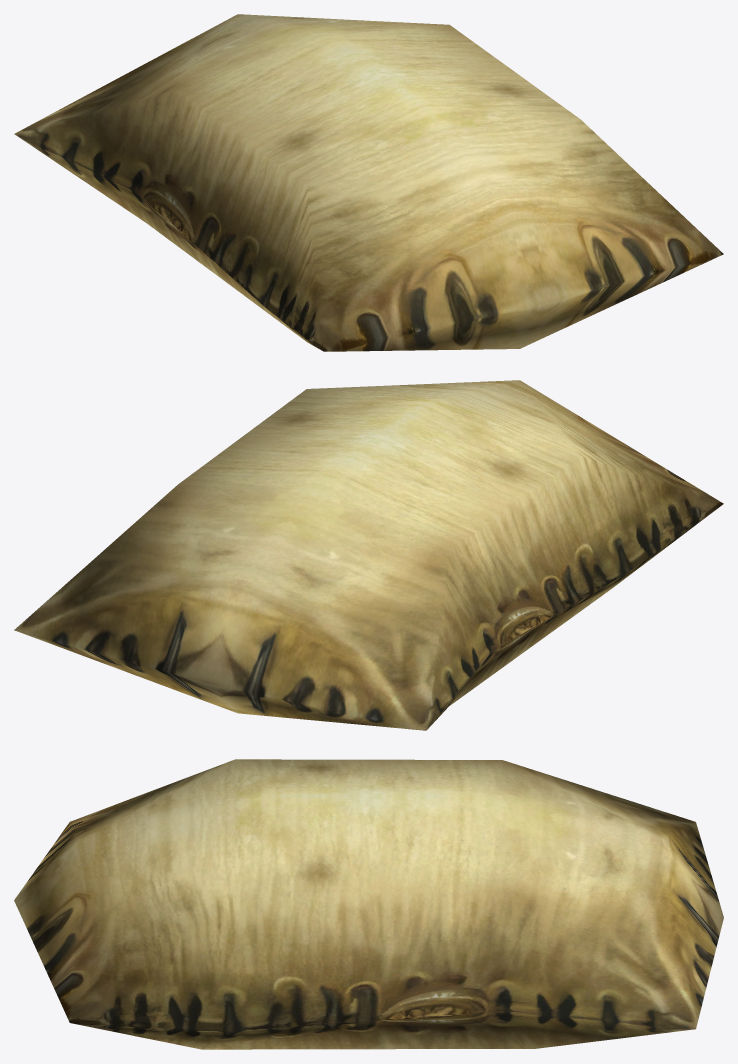
The model's file is sack01.obj.
3 views of the same model, one above another, from view 1: azimuth 30°, elevation 25°; view 2: azimuth 150°, elevation 25°; view 3: azimuth 270°, elevation 25° (orthographic). The views are drawn at different scales.
Visible parts, largest first — view 1: sack01; view 2: sack01; view 3: sack01.
Boxes of the visible parts, left/top/right/bottom form: sack01: left=14, top=14, right=723, bottom=351; sack01: left=14, top=380, right=723, bottom=730; sack01: left=14, top=759, right=723, bottom=1049.
Bounding box in the file's own units: 0.6706 × 0.2678 × 0.9703.
Materials: 1 (1 with a texture image).
